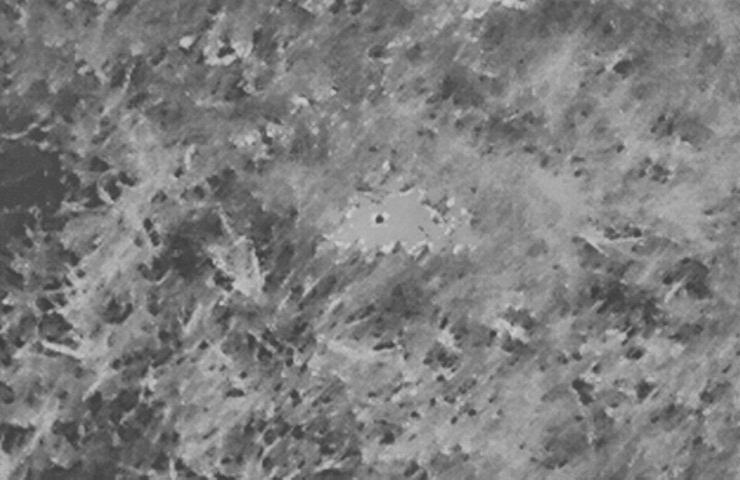landmines: (321, 181, 482, 265)
